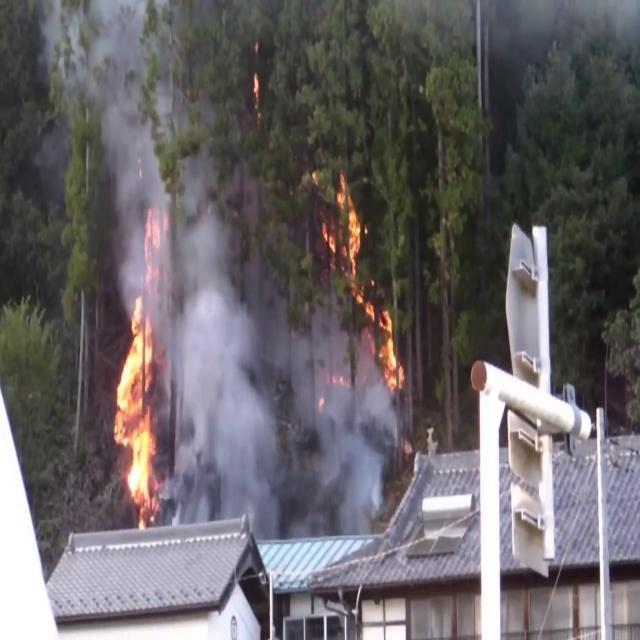Fire: (331, 175, 400, 399), (110, 293, 162, 522)
Smoke: (152, 237, 398, 561), (40, 0, 232, 233)
